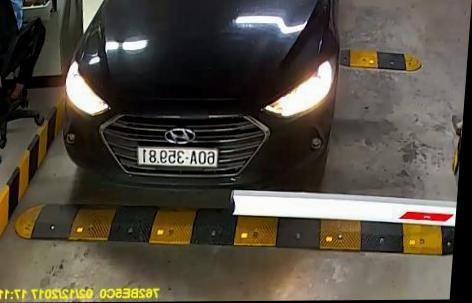License_Plate: (137, 146, 219, 168)
